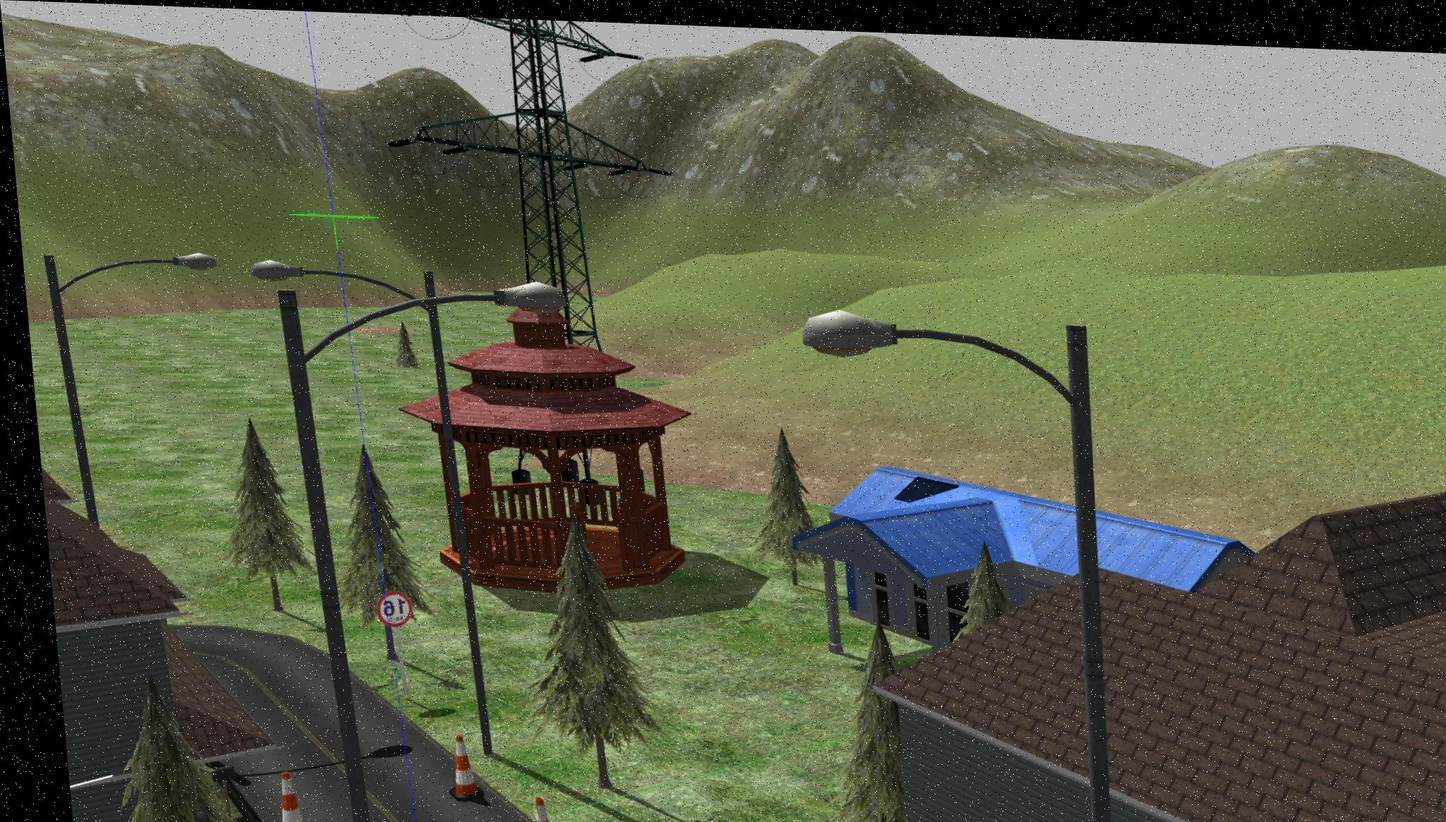tower: (381, 17, 671, 294)
